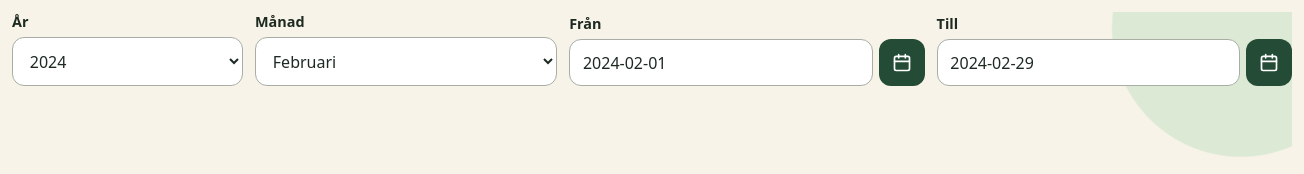
dashboardens periodfilter › uppdaterar månadsintervallet när året ändras
Select "2025" in the dropdown labelled "År". click: (128, 62)
box: [12,37,243,86]
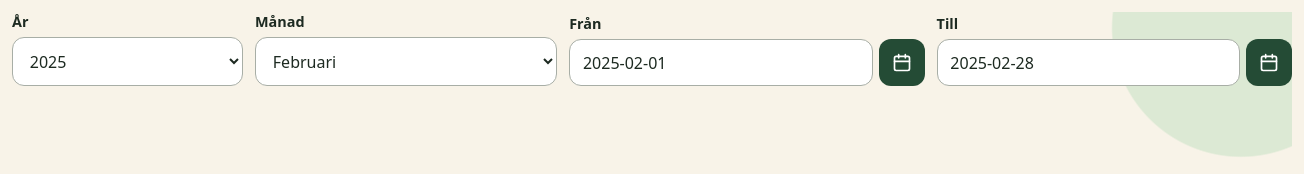
Expected: the field labelled "Från" holds "2025-02-01", [569,39,873,86]
Expected: the field labelled "Till" holds "2025-02-28", [937,39,1240,86]
